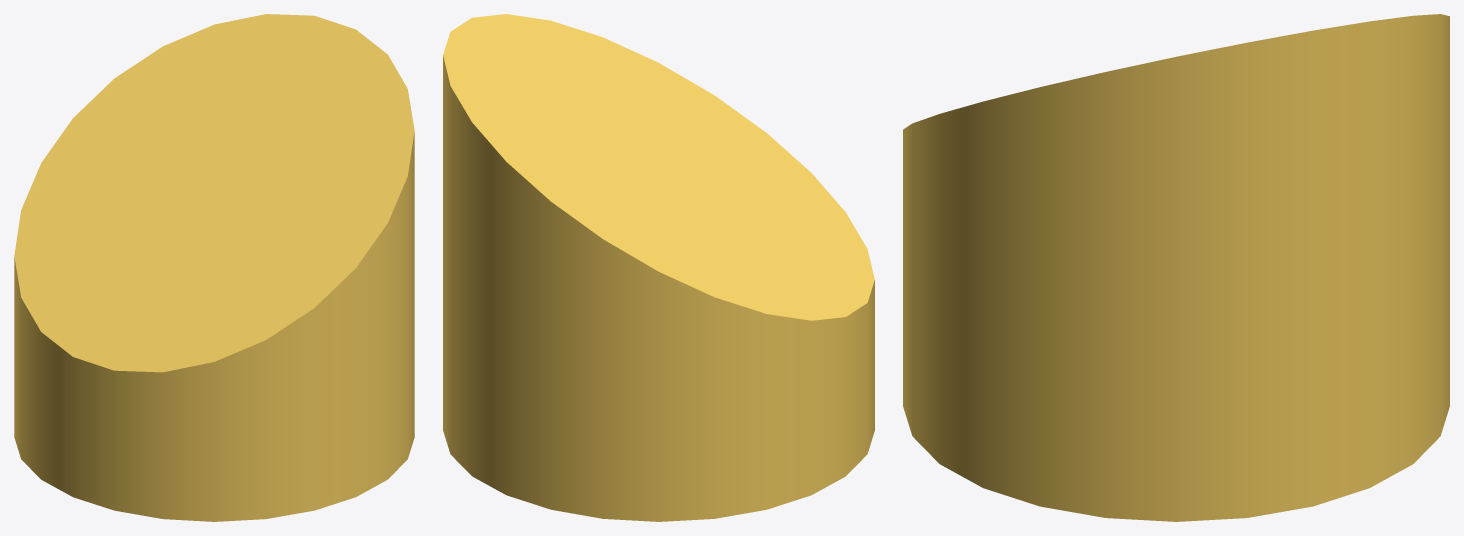
Rendered from Cilindro_OblicuoA.fbx.
The picture shows the model from 3 angles, left to right: view 1: azimuth 30°, elevation 25°; view 2: azimuth 150°, elevation 25°; view 3: azimuth 270°, elevation 25°; orthographic projection. The views are drawn at different scales.
Parts seen in each view (by area): view 1: Difference2; view 2: Difference2; view 3: Difference2.
Boxes of the visible parts, x1,y1,x2,y2 form: Difference2: [14, 14, 414, 521]; Difference2: [443, 14, 874, 521]; Difference2: [903, 14, 1449, 521].
Size of the model in its own units: 100 by 96.04 by 100.
